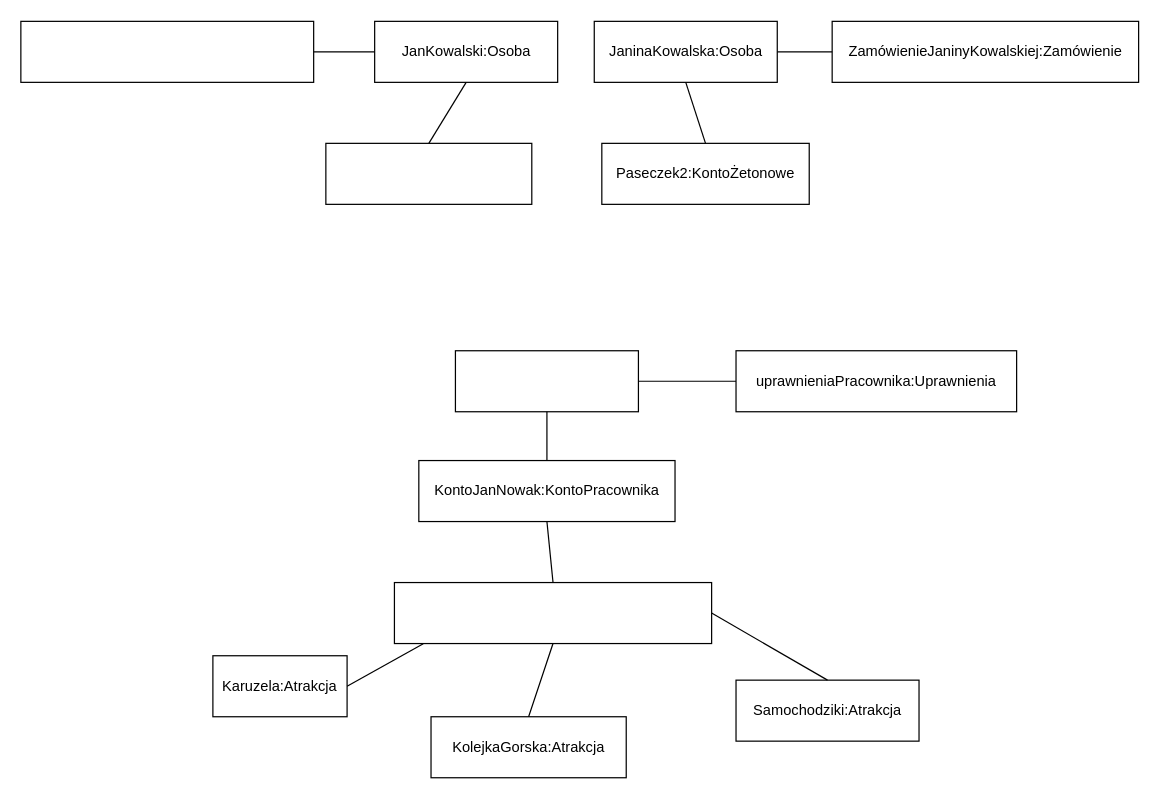
This 1161x799 diagram has some shape labels left out. Here are the shapes that lost their labels. From the top down, the box of each, then its label:
(20, 20, 314, 82): RezerwacjaJanaKowalskiego:Rezerwacja
(325, 142, 532, 204): Paseczek1:KontoCzasowe
(454, 350, 638, 412): JanNowak:Osoba
(393, 581, 712, 644): HarmonogramJanaNowaka:Harmonogram
